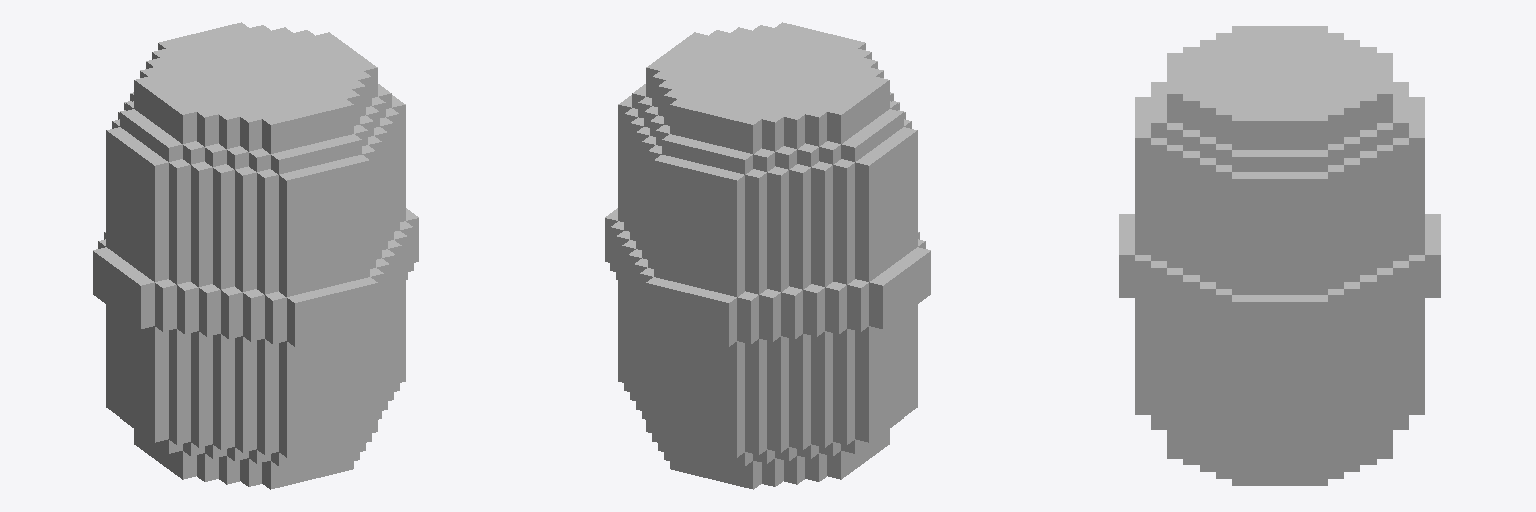
The model's file is barrel.obj.
The picture shows the model from 3 angles: view 1: azimuth 30°, elevation 25°; view 2: azimuth 150°, elevation 25°; view 3: azimuth 270°, elevation 25°; orthographic projection.
Visible parts, largest first — view 1: object 1; view 2: object 1; view 3: object 1.
Boxes of the visible parts, <box> form: object 1: <box>93,22,418,489</box>; object 1: <box>605,22,930,489</box>; object 1: <box>1119,26,1440,485</box>.
Size of the model in its own units: 2 by 2.5 by 2.